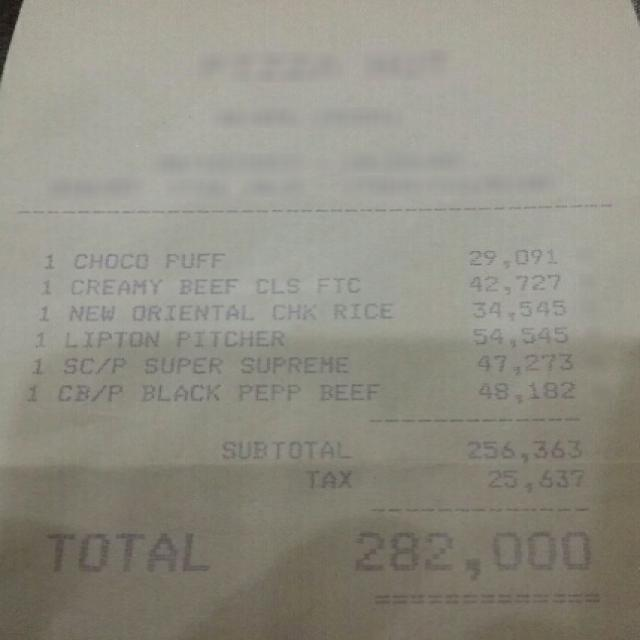text: (352, 529, 591, 579), (43, 530, 209, 573), (461, 322, 574, 348), (221, 438, 349, 460), (464, 438, 582, 460), (458, 298, 565, 322), (172, 326, 284, 348), (483, 468, 585, 492), (476, 350, 571, 374), (477, 379, 573, 402), (130, 302, 250, 320), (462, 273, 560, 293), (73, 326, 160, 348), (466, 247, 556, 267), (237, 356, 345, 372), (67, 278, 157, 293), (70, 251, 146, 268), (143, 356, 220, 372), (139, 383, 218, 398), (54, 382, 119, 400), (63, 356, 124, 372), (331, 300, 391, 316), (175, 277, 234, 293), (238, 383, 298, 398), (304, 468, 349, 488), (318, 383, 377, 398), (164, 252, 222, 267), (316, 274, 361, 293), (66, 302, 112, 320), (253, 276, 297, 291), (267, 304, 312, 318), (37, 275, 55, 292), (33, 329, 46, 348), (24, 384, 37, 402), (42, 251, 55, 269), (36, 304, 48, 322), (31, 357, 39, 372)
